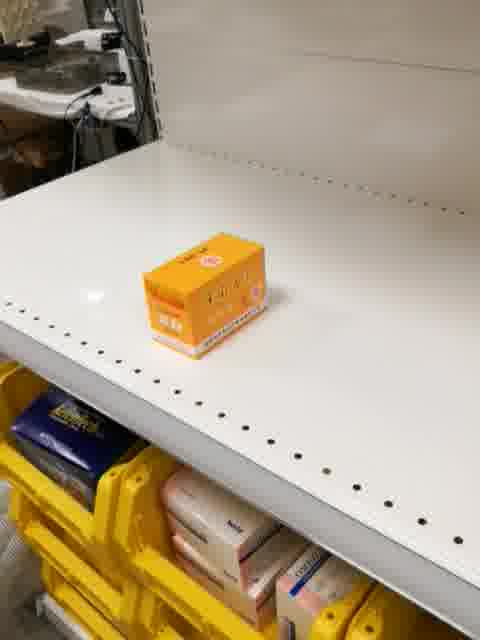jasminetea: (142, 232, 269, 360)
